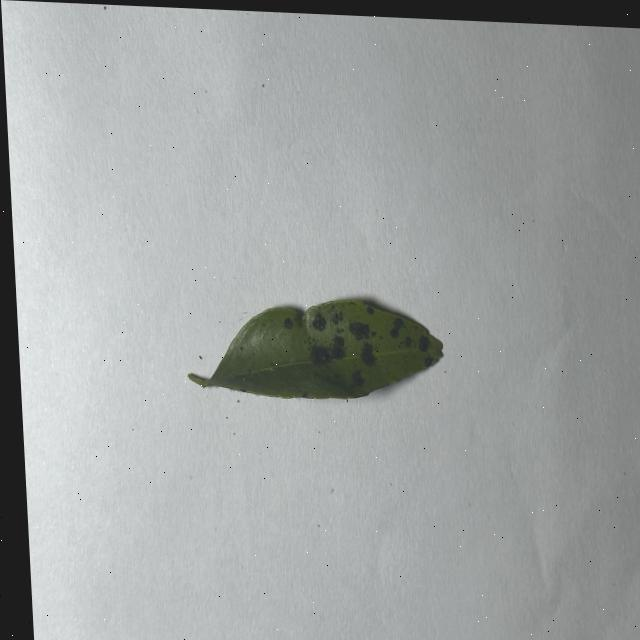sooty_mold: (188, 300, 441, 399)
